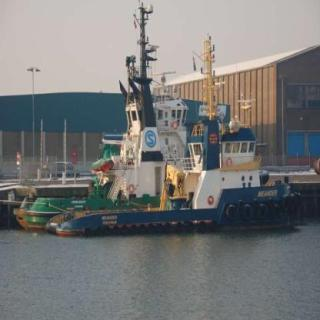Tug Boat: (14, 35, 320, 234)
